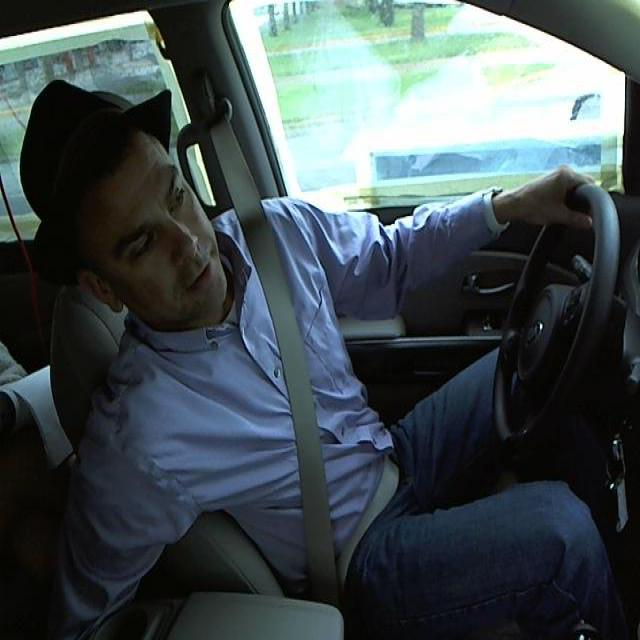seatbelt: (252, 245, 362, 576)
